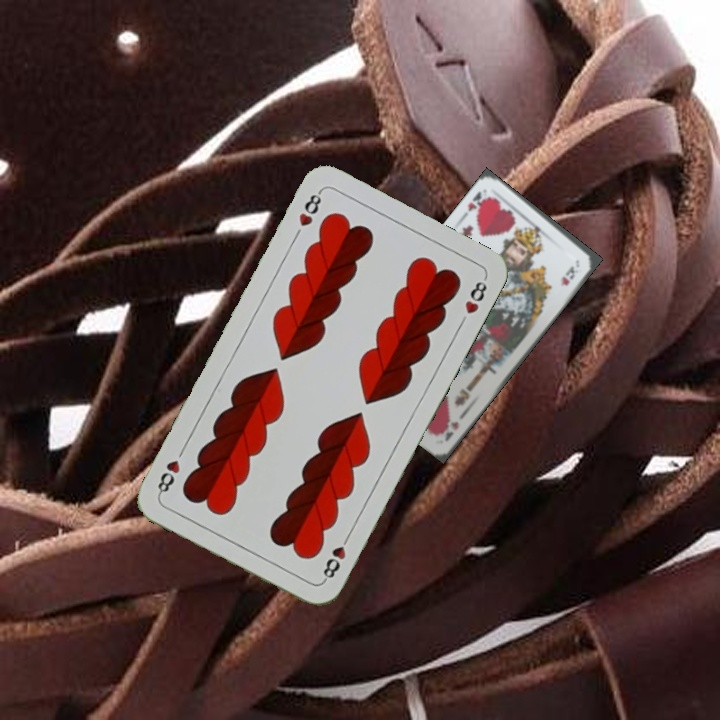H8: (318, 530, 353, 584), (294, 186, 324, 229)
HK: (437, 410, 469, 444), (460, 188, 492, 220)
